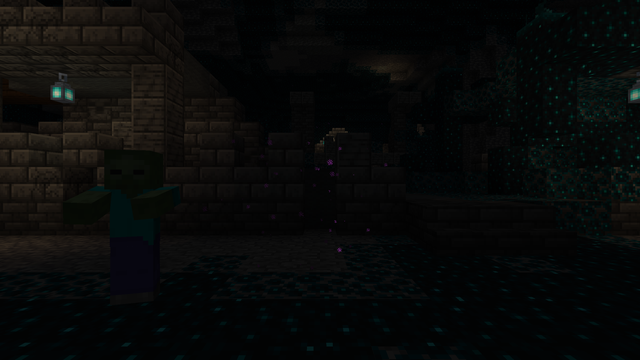zombies: (95, 153, 171, 309)
